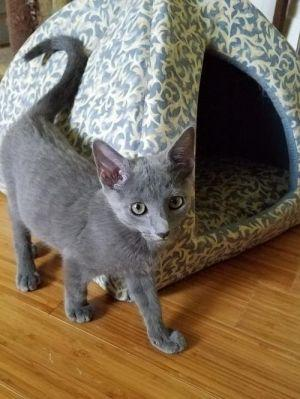rblue: (86, 125, 213, 271)
